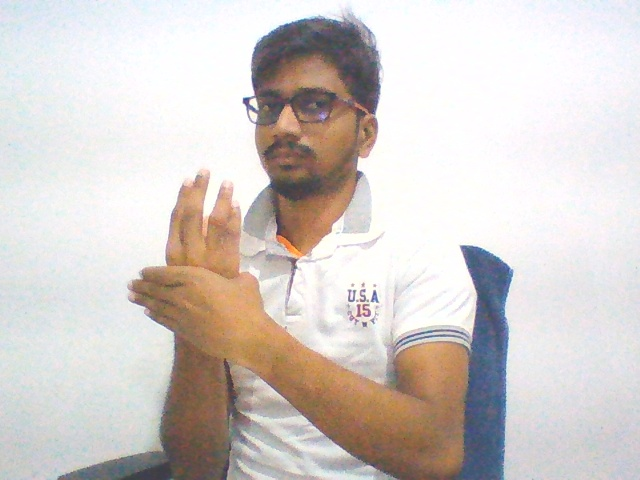tree: (118, 162, 269, 371)
